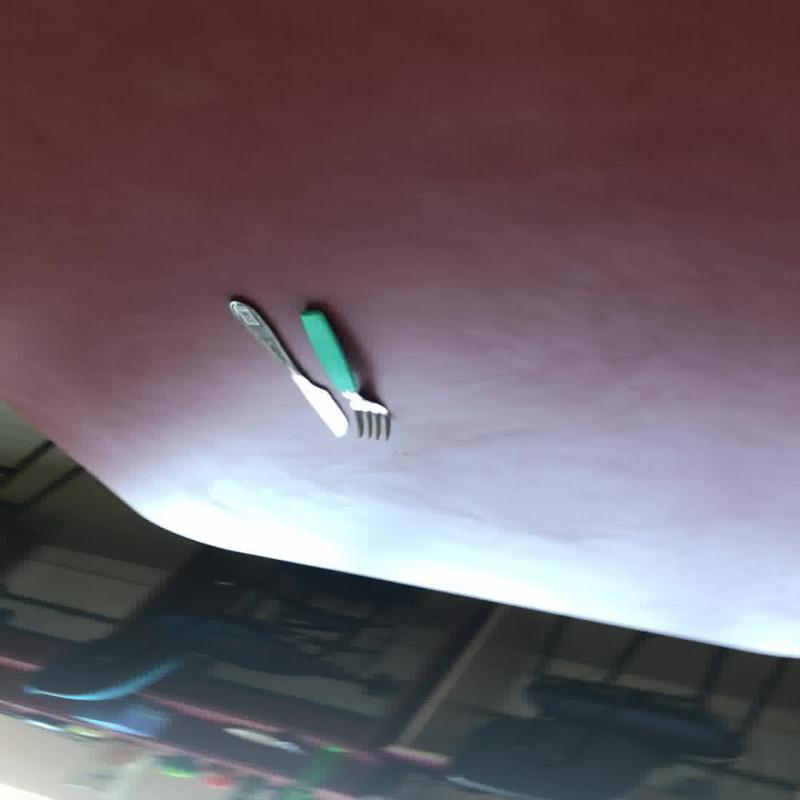fork: (296, 306, 390, 440)
knife: (226, 299, 350, 438)
